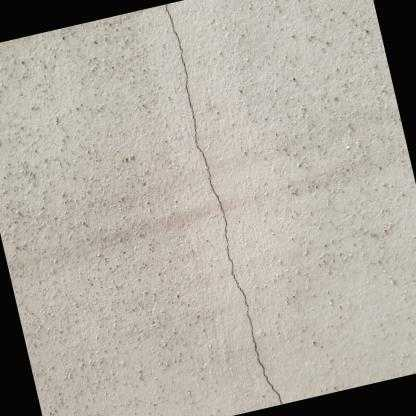crack: (165, 4, 285, 405)
